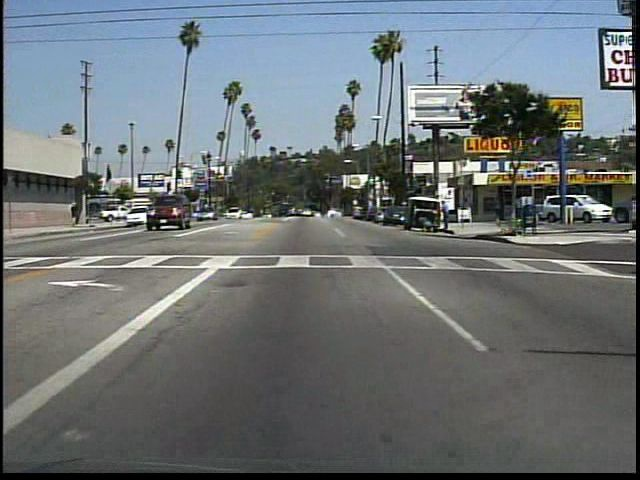person: (439, 197, 455, 234), (489, 192, 504, 223), (415, 215, 433, 233), (72, 200, 81, 228)
